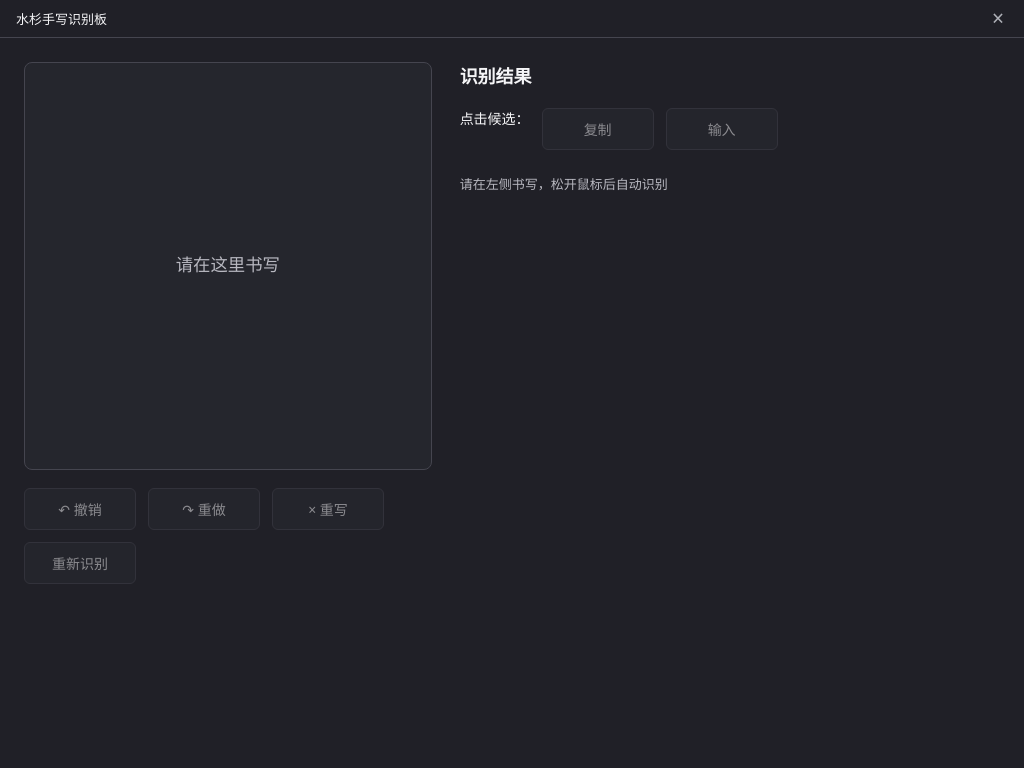
it: an empty result on linux says 未识别到内容，请重写
This screenshot has width=1024, height=768.
Press the mouse on the icon named "手写画布": (228, 266) [24,62,432,470]
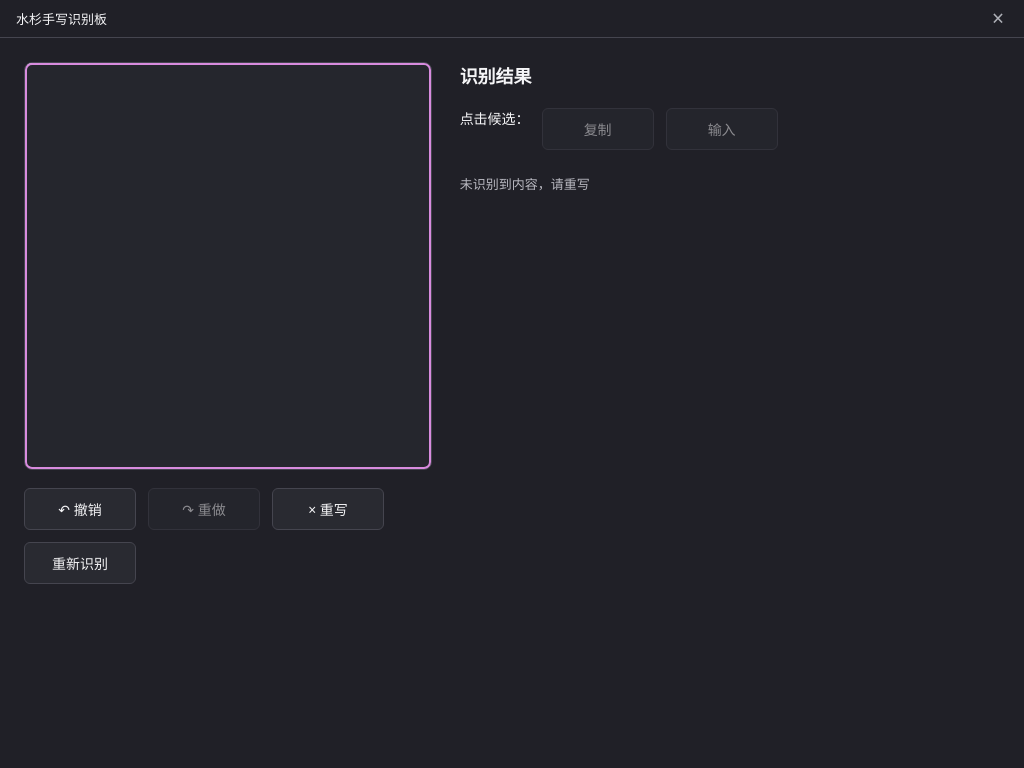
Check: the text "未识别到内容，请重写" is shown, box [460,175,590,193]
